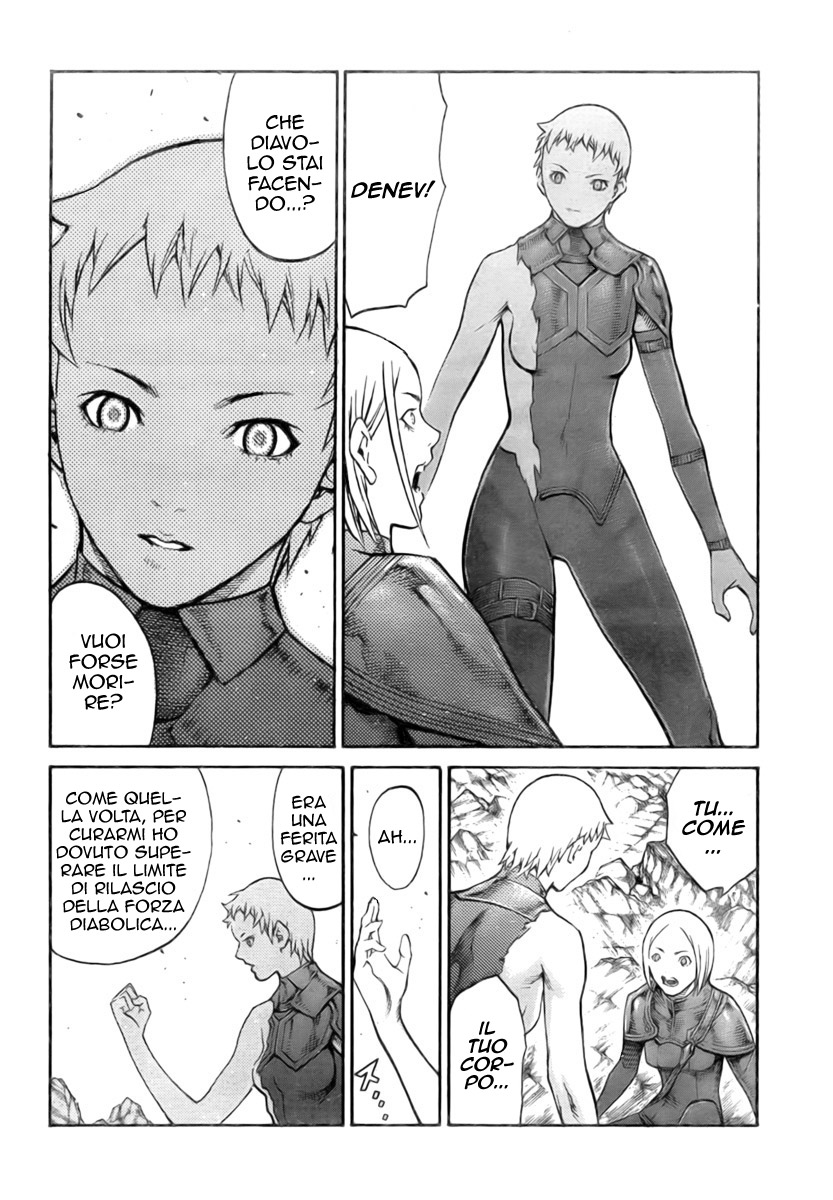Baloon: (46, 765, 212, 962), (345, 71, 452, 318), (221, 71, 337, 265), (48, 582, 159, 751), (661, 769, 761, 894), (445, 973, 525, 1127), (274, 767, 346, 907), (366, 785, 423, 893)
Vignetta: (343, 67, 761, 749), (48, 73, 334, 747), (448, 767, 761, 1123), (50, 767, 345, 1123), (354, 767, 437, 1123)
